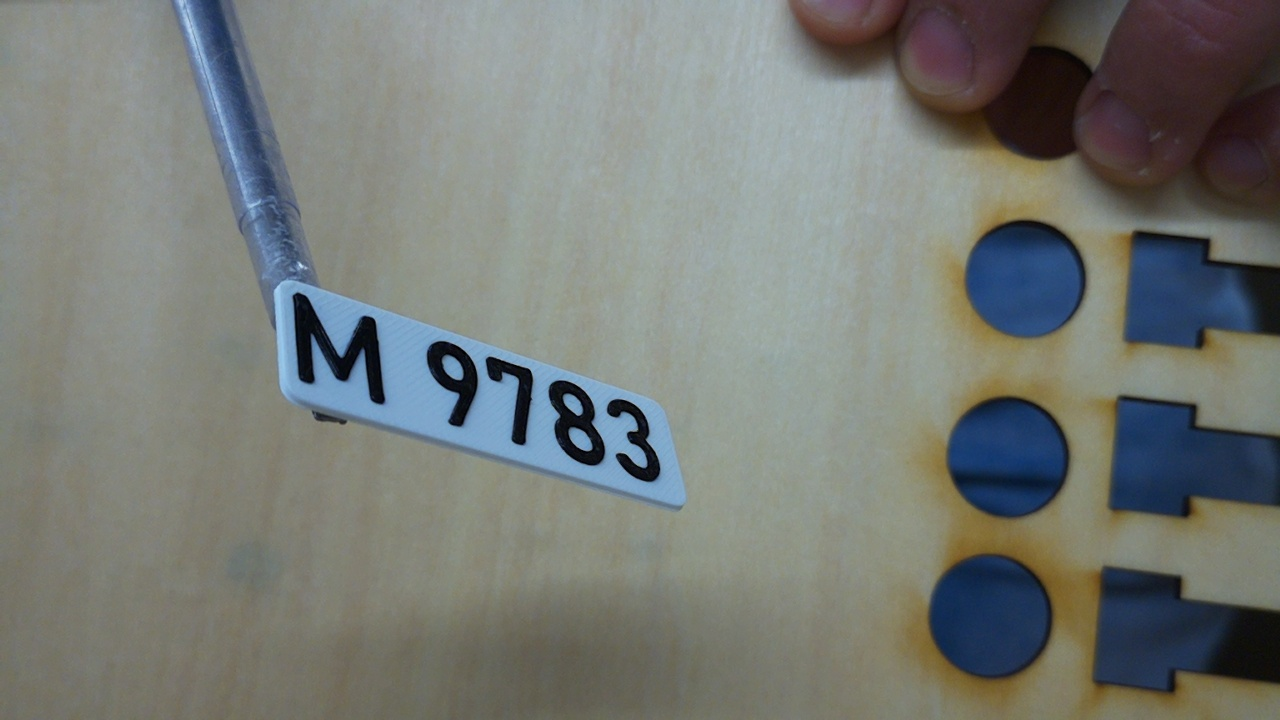license_plate: (271, 277, 689, 514)
